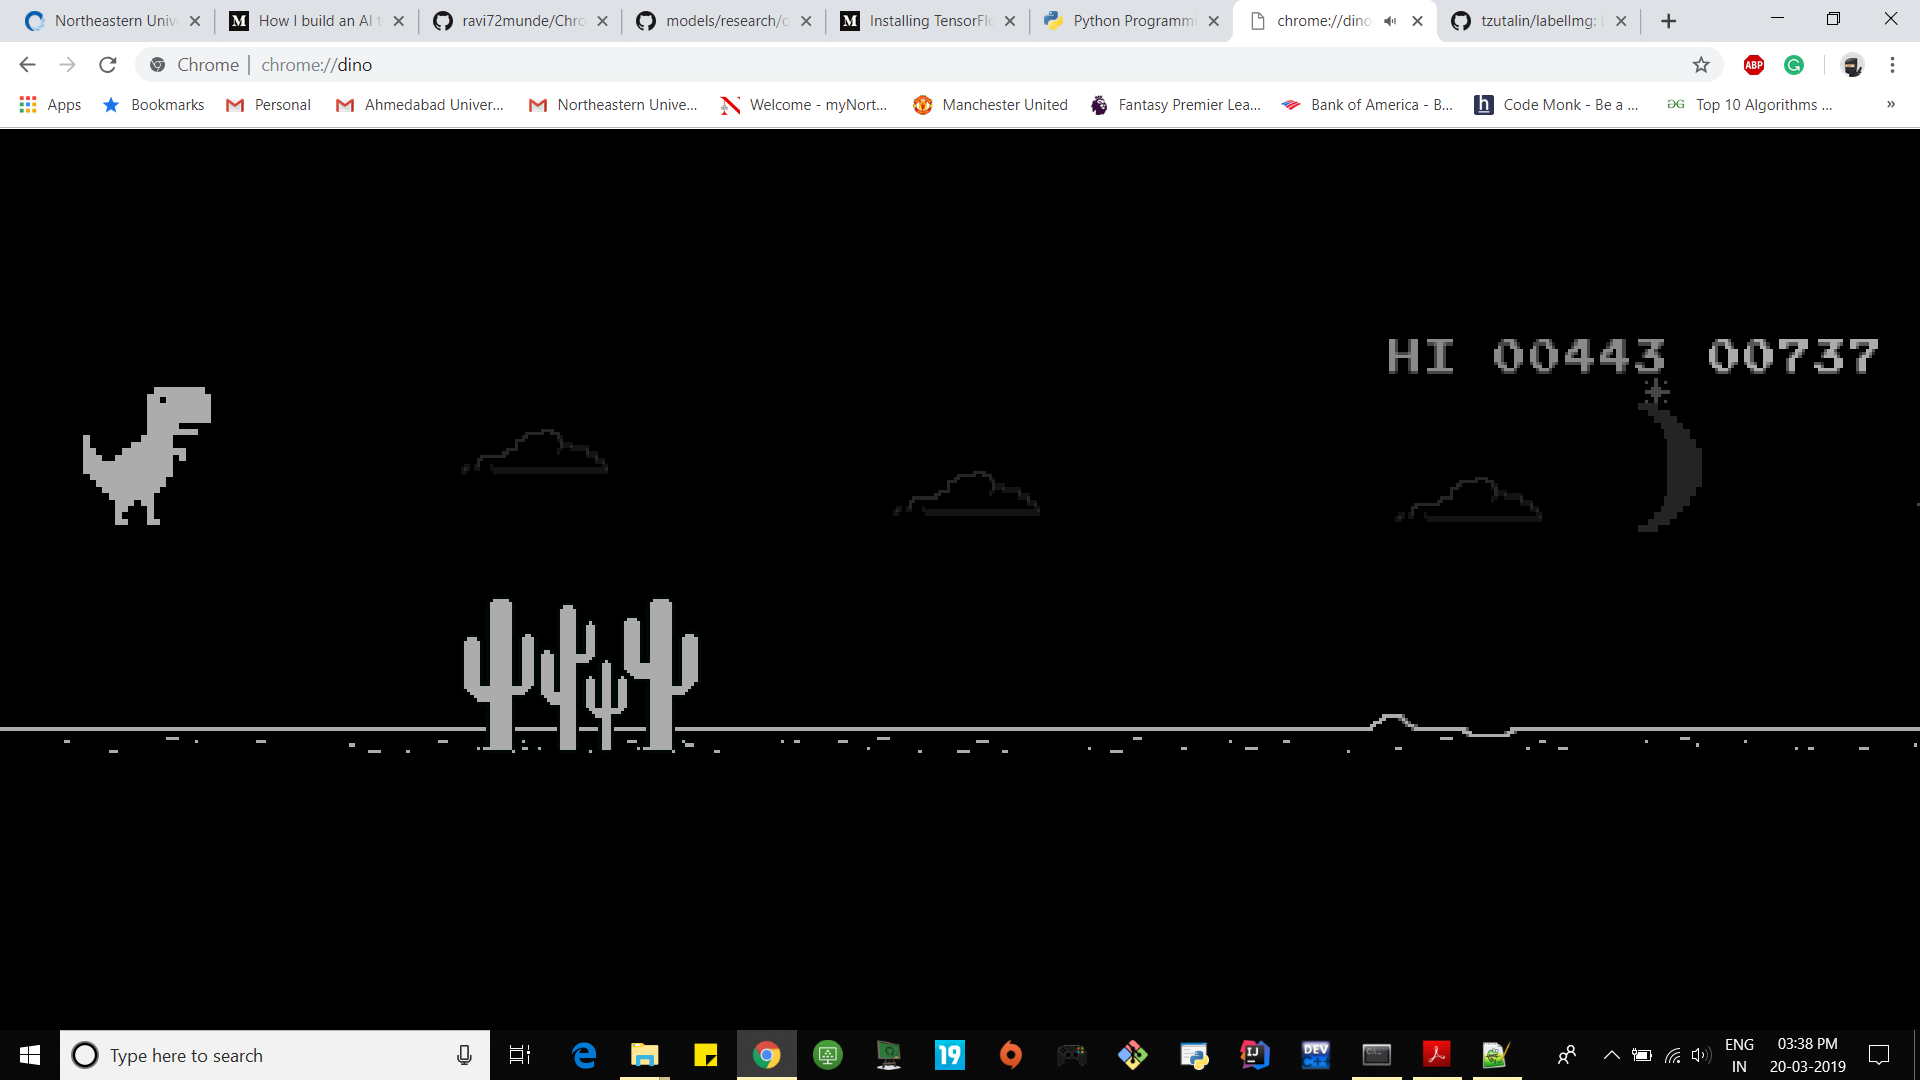cactus-4: (459, 588, 700, 753)
dino: (78, 385, 212, 531)
